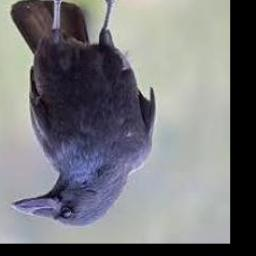Crow: (9, 0, 155, 227)
